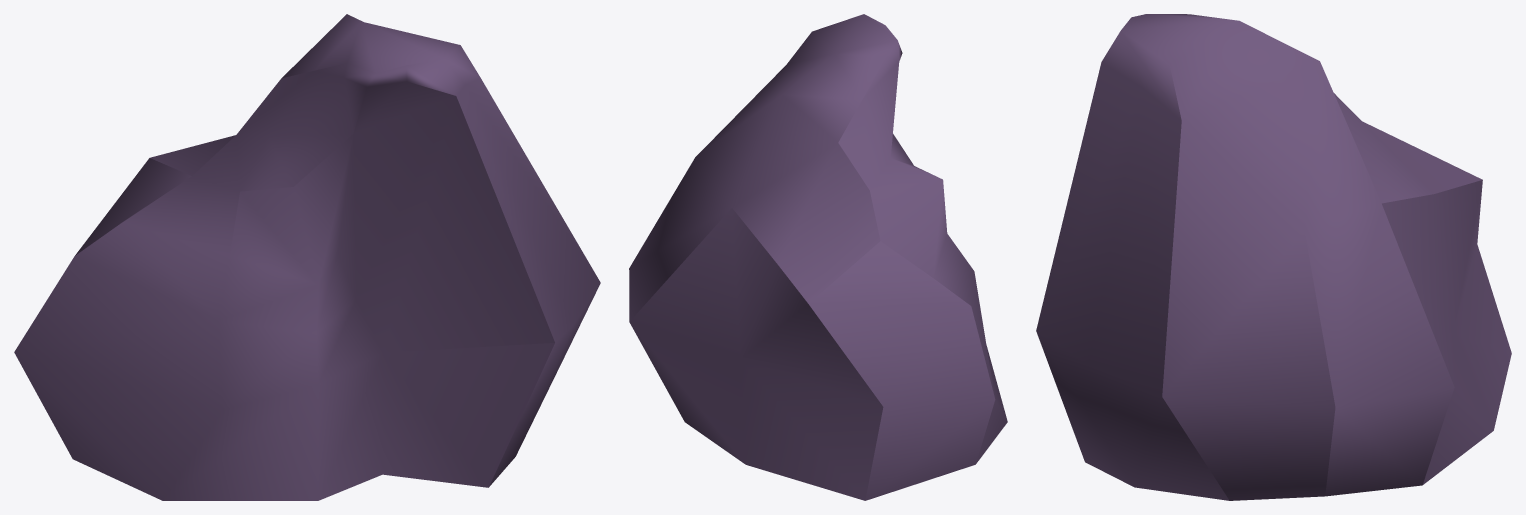
The model's file is sm_rock_03.fbx.
The picture shows the model from 3 angles, left to right: view 1: azimuth 30°, elevation 25°; view 2: azimuth 150°, elevation 25°; view 3: azimuth 270°, elevation 25°; orthographic projection. The views are drawn at different scales.
Visible parts, largest first — view 1: sm_rock_03; view 2: sm_rock_03; view 3: sm_rock_03.
Part boxes in pixels (x1,y1,x2,y2): sm_rock_03: [14, 14, 600, 500]; sm_rock_03: [629, 14, 1007, 500]; sm_rock_03: [1036, 14, 1511, 500].
Bounding box in the file's own units: 3.34 × 2.77 × 2.85.
